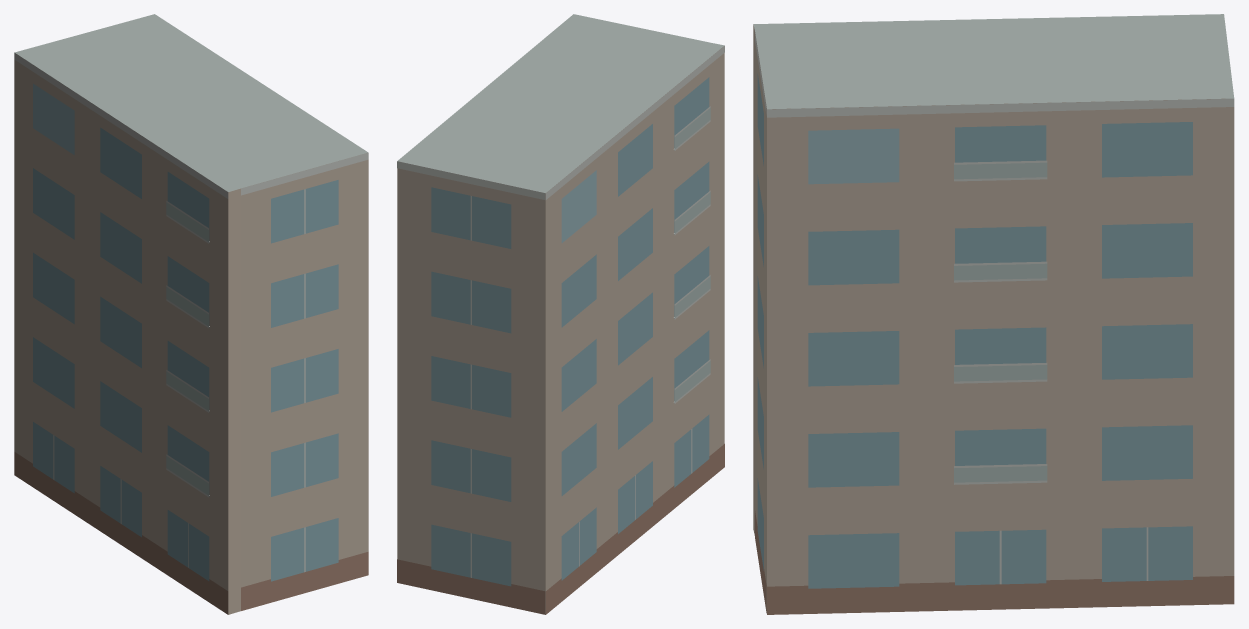
Rendered from survey-upis-32704143.glb.
3 renders of one model, left to right at view 1: azimuth 30°, elevation 25°; view 2: azimuth 150°, elevation 25°; view 3: azimuth 270°, elevation 25°, orthographic. The views are drawn at different scales.
Visible parts, largest first — view 1: survey-upis-32704143.tmp; view 2: survey-upis-32704143.tmp; view 3: survey-upis-32704143.tmp.
Part boxes in pixels (x1,y1,x2,y2): survey-upis-32704143.tmp: (14,14,368,614); survey-upis-32704143.tmp: (397,14,724,614); survey-upis-32704143.tmp: (753,14,1234,614).
Size of the model in its own units: 5.89 by 14.55 by 12.55.
